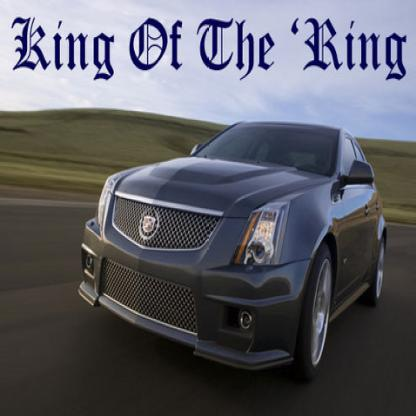Vehicle: (79, 119, 391, 382)
